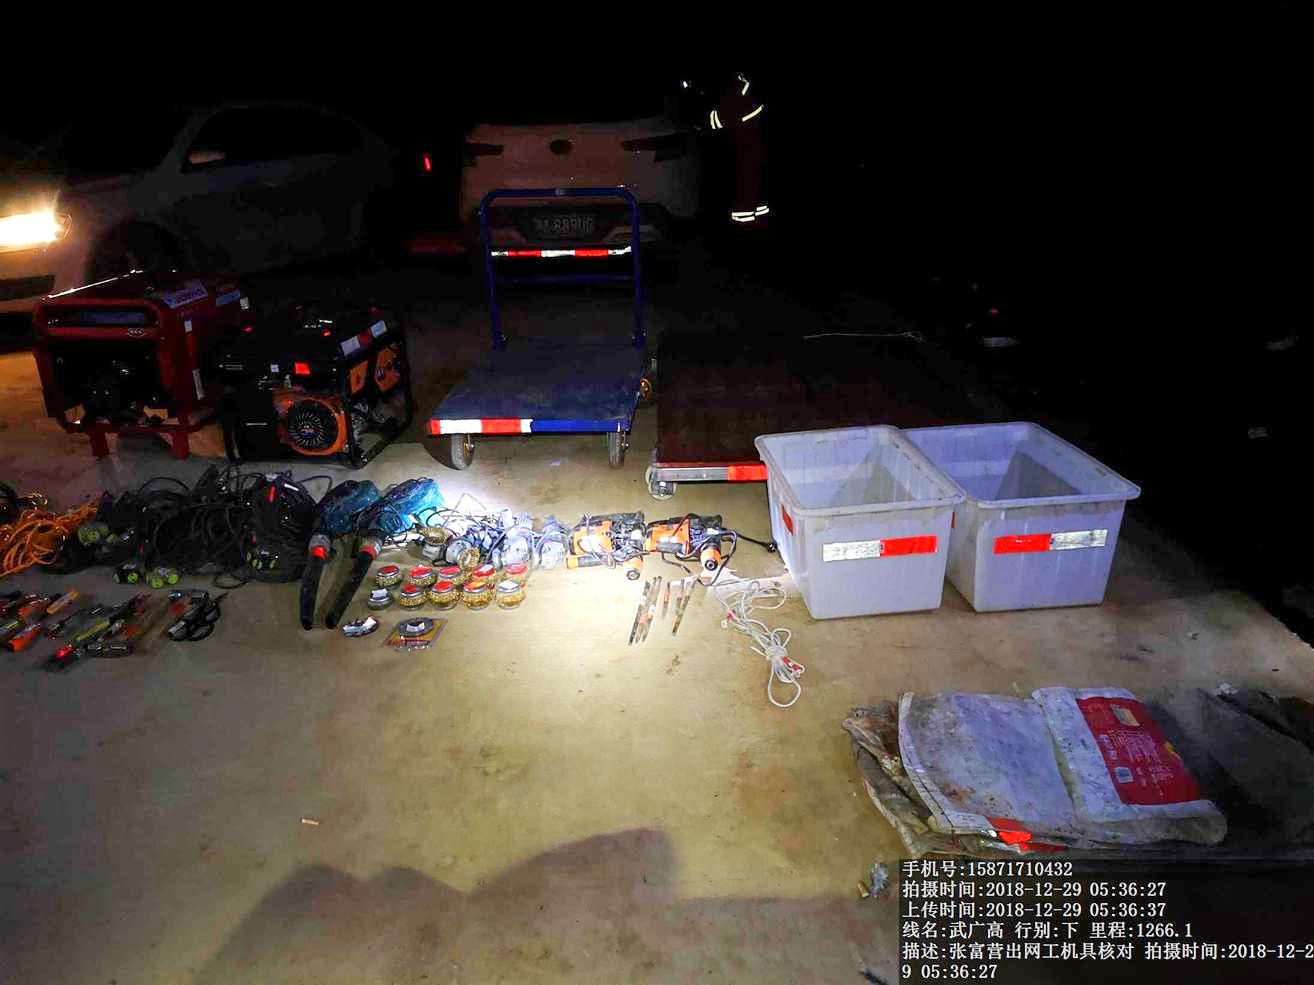BZD: (842, 678, 1240, 867)
DMJ: (527, 512, 573, 571), (447, 505, 481, 570), (487, 510, 527, 563)
DX: (6, 496, 74, 573)
DZ: (570, 505, 648, 583), (647, 514, 733, 580)
FDJ: (32, 261, 241, 470), (237, 274, 424, 466)
GFJ: (294, 473, 367, 623), (368, 477, 441, 546)
T: (920, 422, 1151, 614), (750, 424, 960, 620)
TC: (425, 204, 661, 470)
